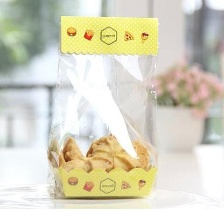snack: (39, 10, 168, 205)
